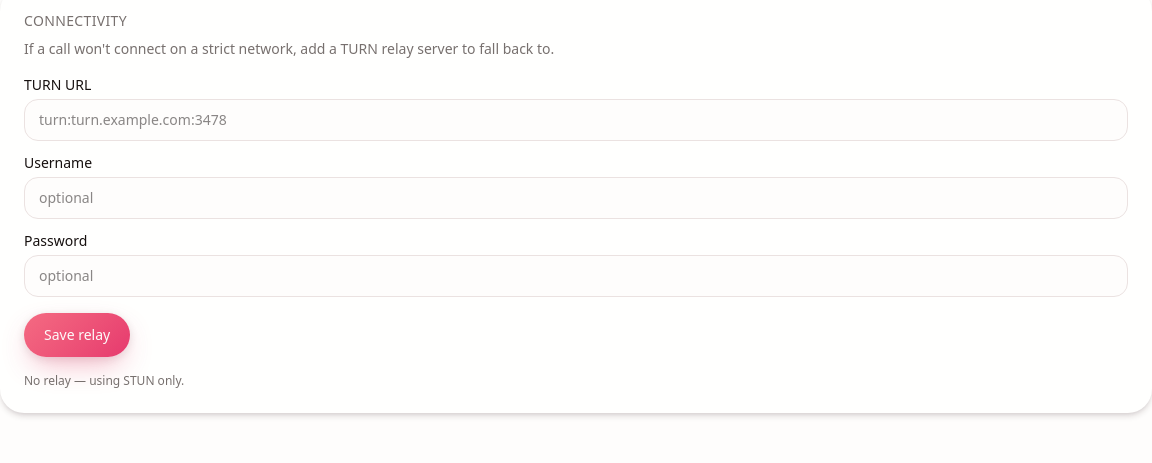
Test: TurnSettings › rejects an invalid URL with an alert and does not persist
Type "http://nope" into the field labelled "TURN URL" at (576, 120), box [24,99,1128,141]
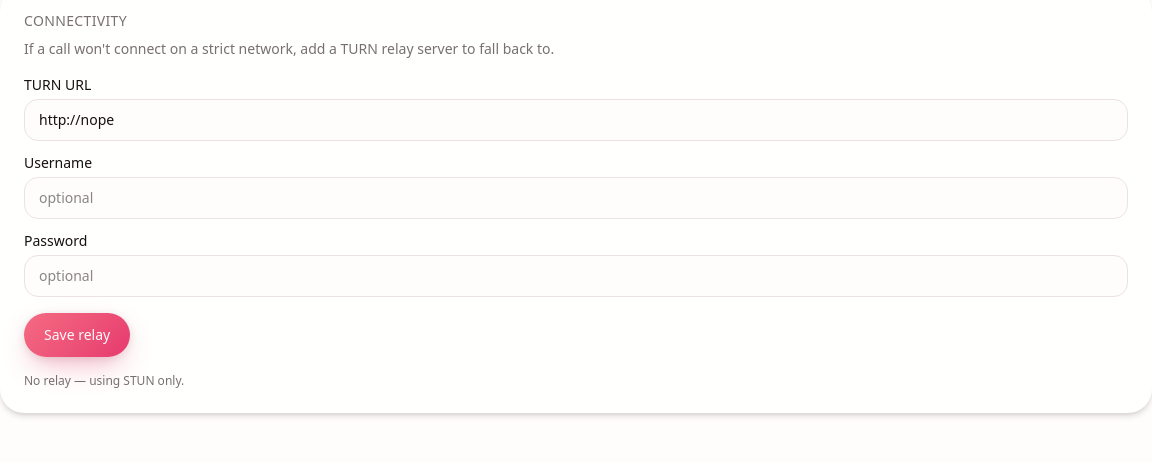
Click the button "Save relay" at (77, 335), box [24,313,130,357]
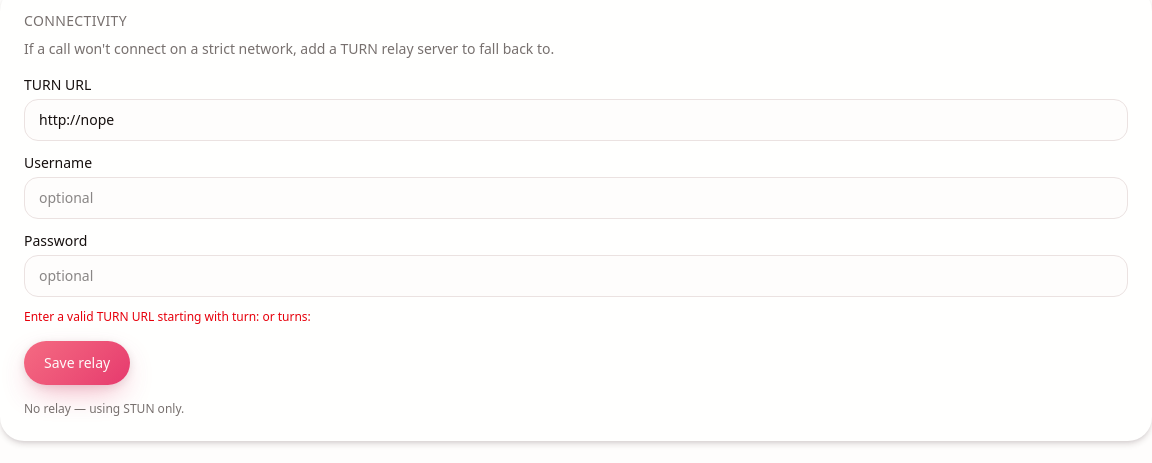
Expected: the message "Enter a valid TURN URL starting with turn: or turns:" is shown, [24,308,311,325]
